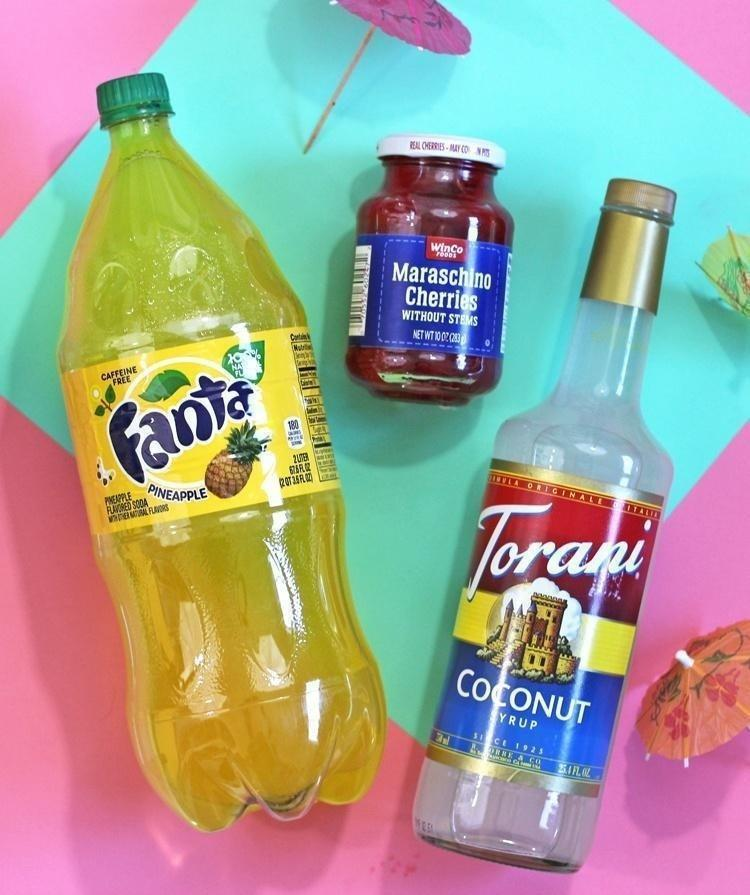bottle-glass: (414, 168, 686, 875)
bottle-plastic: (52, 68, 391, 840)
